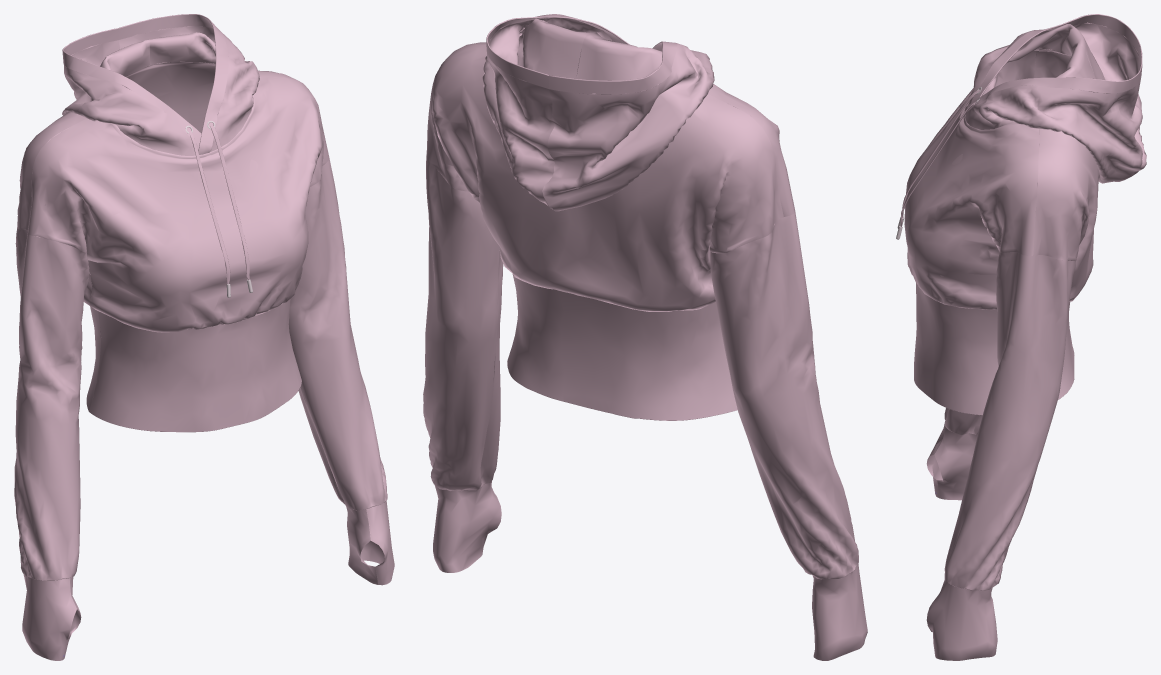
The model's file is rose-hoodie.glb.
The picture shows the model from 3 angles, left to right: view 1: azimuth 30°, elevation 25°; view 2: azimuth 150°, elevation 25°; view 3: azimuth 270°, elevation 25°; orthographic projection. The views are drawn at different scales.
Visible parts, largest first — view 1: rose-hoodie; view 2: rose-hoodie; view 3: rose-hoodie.
Boxes of the visible parts, bbox=[...] form: rose-hoodie: bbox=[14, 14, 394, 660]; rose-hoodie: bbox=[423, 14, 867, 660]; rose-hoodie: bbox=[896, 14, 1146, 660].
Bounding box in the file's own units: 1.76 × 2.5 × 1.07.
Materials: 5 (1 with a texture image).
